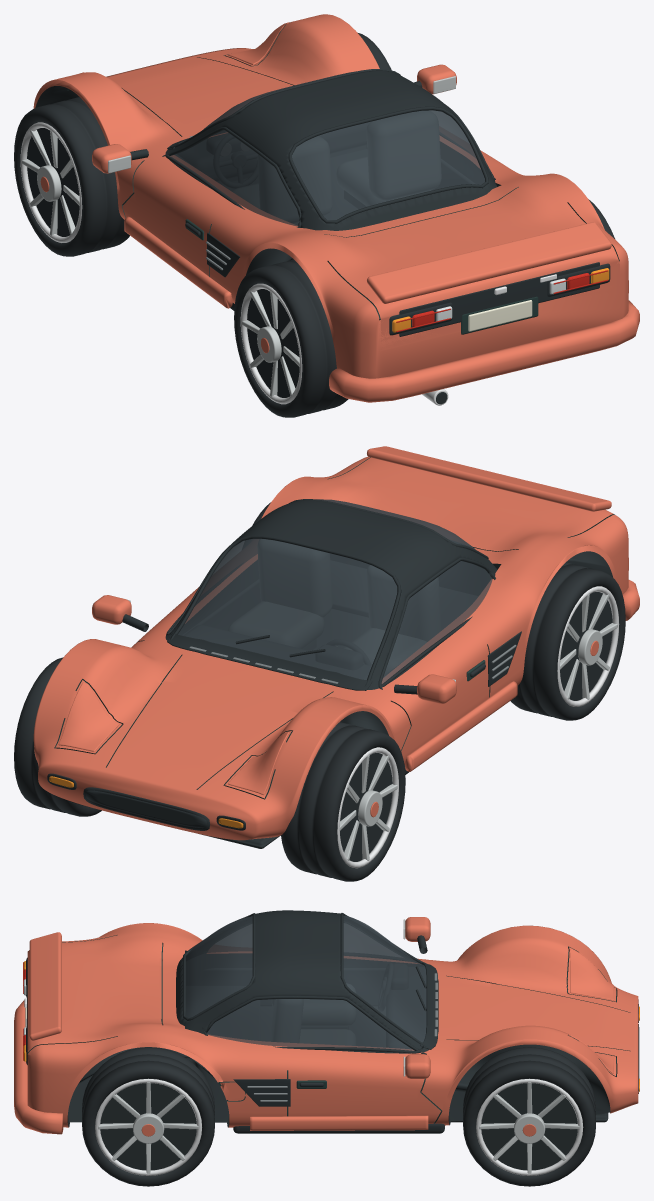
File: shiro.fbx
3 views of the same model, one above another, from view 1: azimuth 30°, elevation 25°; view 2: azimuth 150°, elevation 25°; view 3: azimuth 270°, elevation 25° (orthographic). The views are drawn at different scales.
Visible parts, largest first — view 1: Body, Wheel_FL_Mesh, Wheel_RL_Mesh; view 2: Body, Wheel_FL_Mesh, Wheel_RL_Mesh, Wheel_FR_Mesh; view 3: Body, Wheel_FR_Mesh, Wheel_RR_Mesh.
Part boxes in pixels (x1=…): Body: x1=33, y1=14, x2=639, y2=405; Wheel_FL_Mesh: x1=14, y1=97, x2=129, y2=256; Wheel_RL_Mesh: x1=234, y1=259, x2=348, y2=417; Body: x1=33, y1=446, x2=639, y2=848; Wheel_FL_Mesh: x1=281, y1=722, x2=405, y2=881; Wheel_RL_Mesh: x1=510, y1=562, x2=625, y2=720; Wheel_FR_Mesh: x1=14, y1=657, x2=101, y2=816; Body: x1=14, y1=910, x2=639, y2=1134; Wheel_FR_Mesh: x1=463, y1=1047, x2=595, y2=1186; Wheel_RR_Mesh: x1=82, y1=1047, x2=214, y2=1186.
Bounding box in the file's own units: 235 × 136 × 414.
